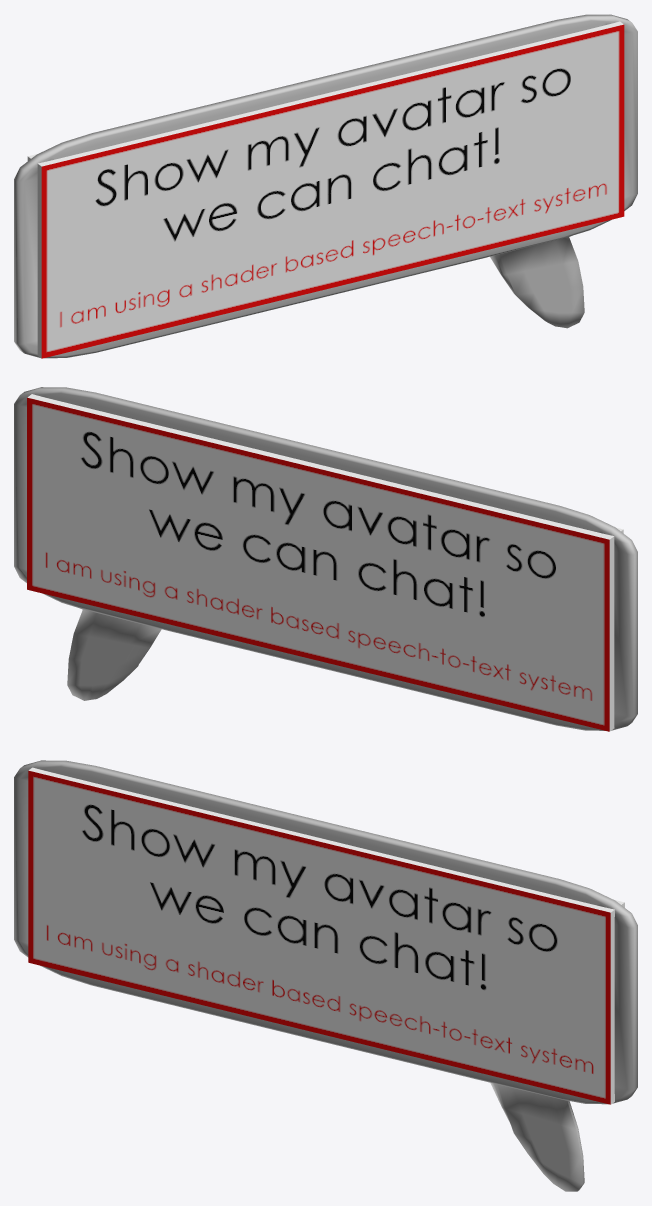
File: Billboard Remodel.fbx
The picture shows the model from 3 angles, top to bottom: view 1: azimuth 30°, elevation 25°; view 2: azimuth 150°, elevation 25°; view 3: azimuth 330°, elevation 25°; orthographic projection.
Parts seen in each view (by area): view 1: Show Avatar, Board; view 2: Show Avatar, Board; view 3: Show Avatar, Board.
Boxes of the visible parts, x1,y1,x2,y2 form: Show Avatar: (27,14,624,358); Board: (14,14,637,358); Show Avatar: (27,394,623,731); Board: (14,387,637,730); Show Avatar: (28,767,624,1104); Board: (14,760,637,1191).
Size of the model in its own units: 61.12 by 29.04 by 2.4.
